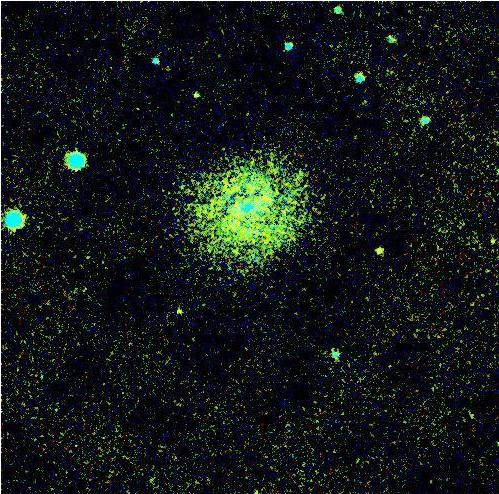star: (165, 297, 195, 327)
